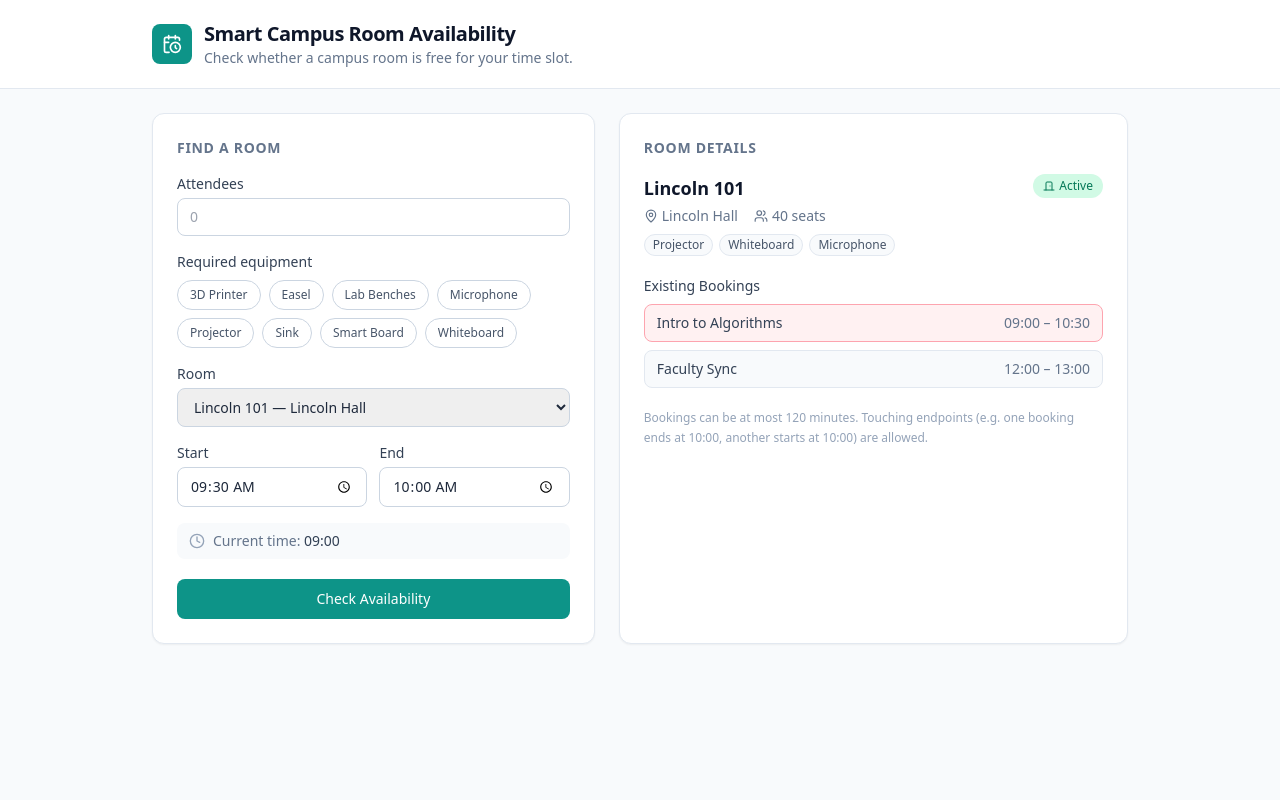
Test: RoomChecker UI — explain availability › U3: 'Explain availability' button appears only after checking availability
Expected: the button "Explain availability" is not shown
What coordinates should you click on to do the following:
click the button "Check Availability"
I would click on:
 (373, 599)
Its box is [177,579,570,619].
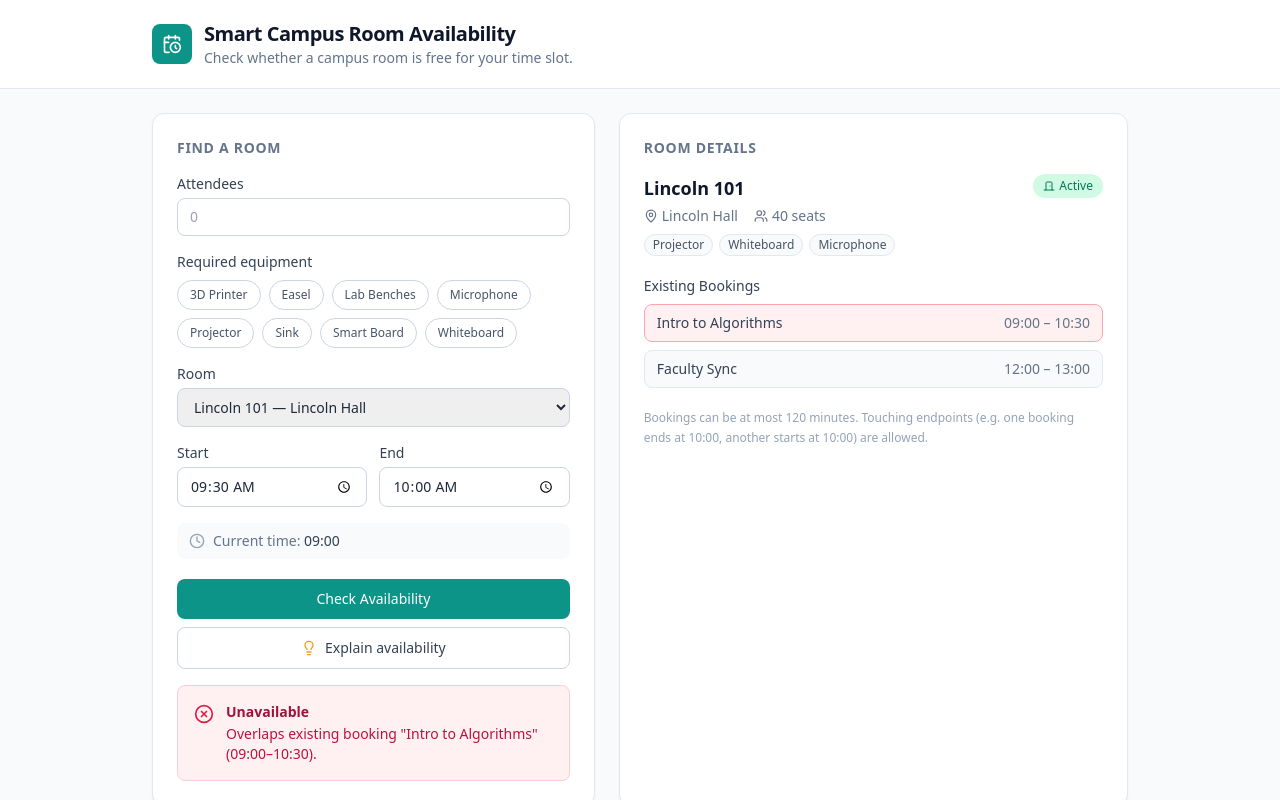
Expected: the button "Explain availability" is shown, [177,627,570,669]
